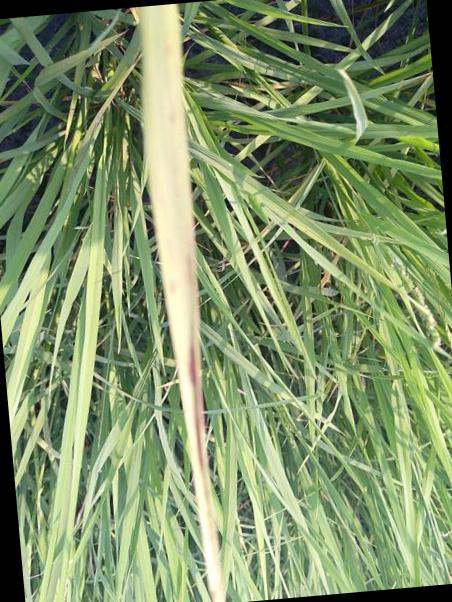Leaf Blight: (161, 204, 220, 595)
